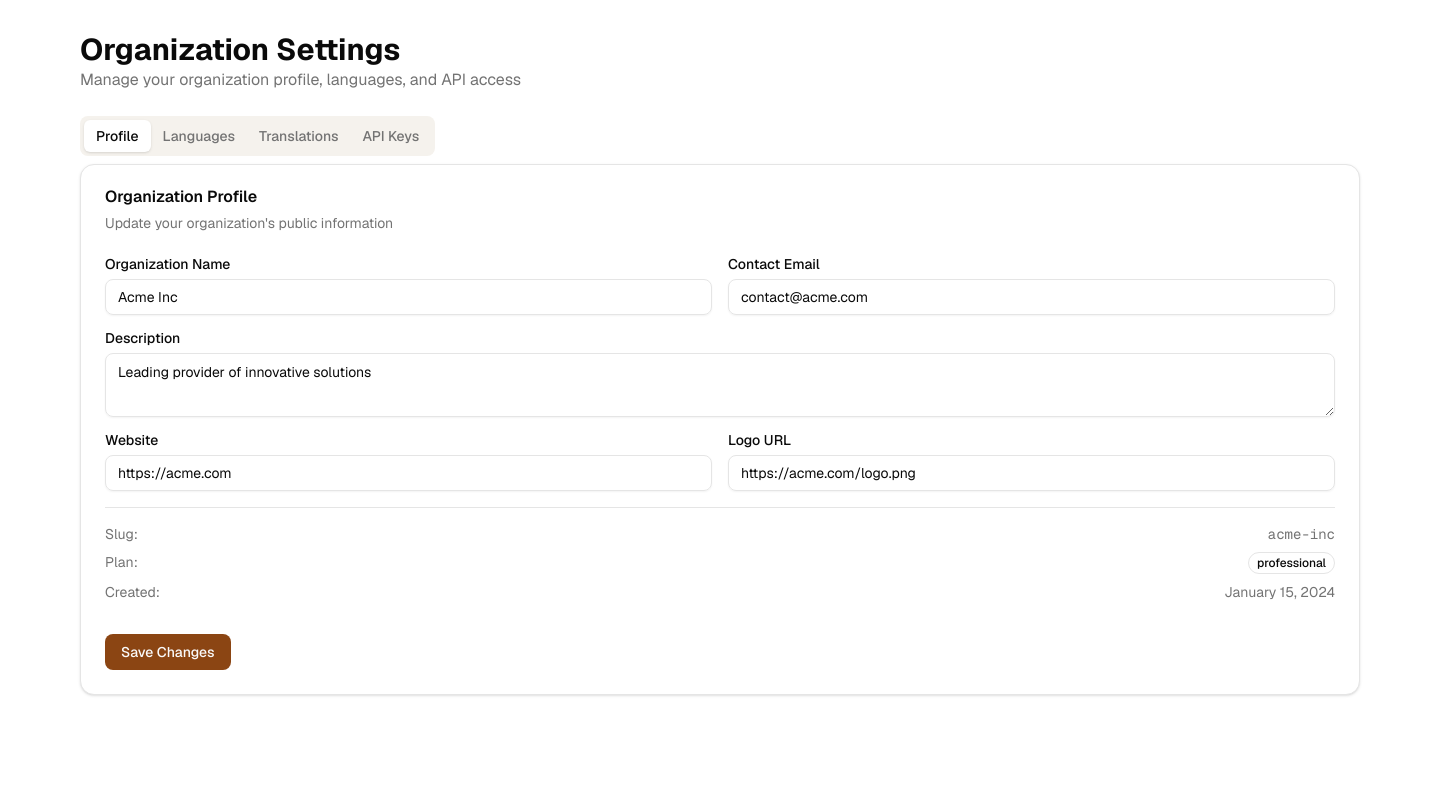
Test: OrganizationSettingsPage › Languages Tab - Locale Listing › should display empty state when no locales
This screenshot has width=1440, height=810.
Click the tab "Languages": [199, 136] box [150,120,247,152]
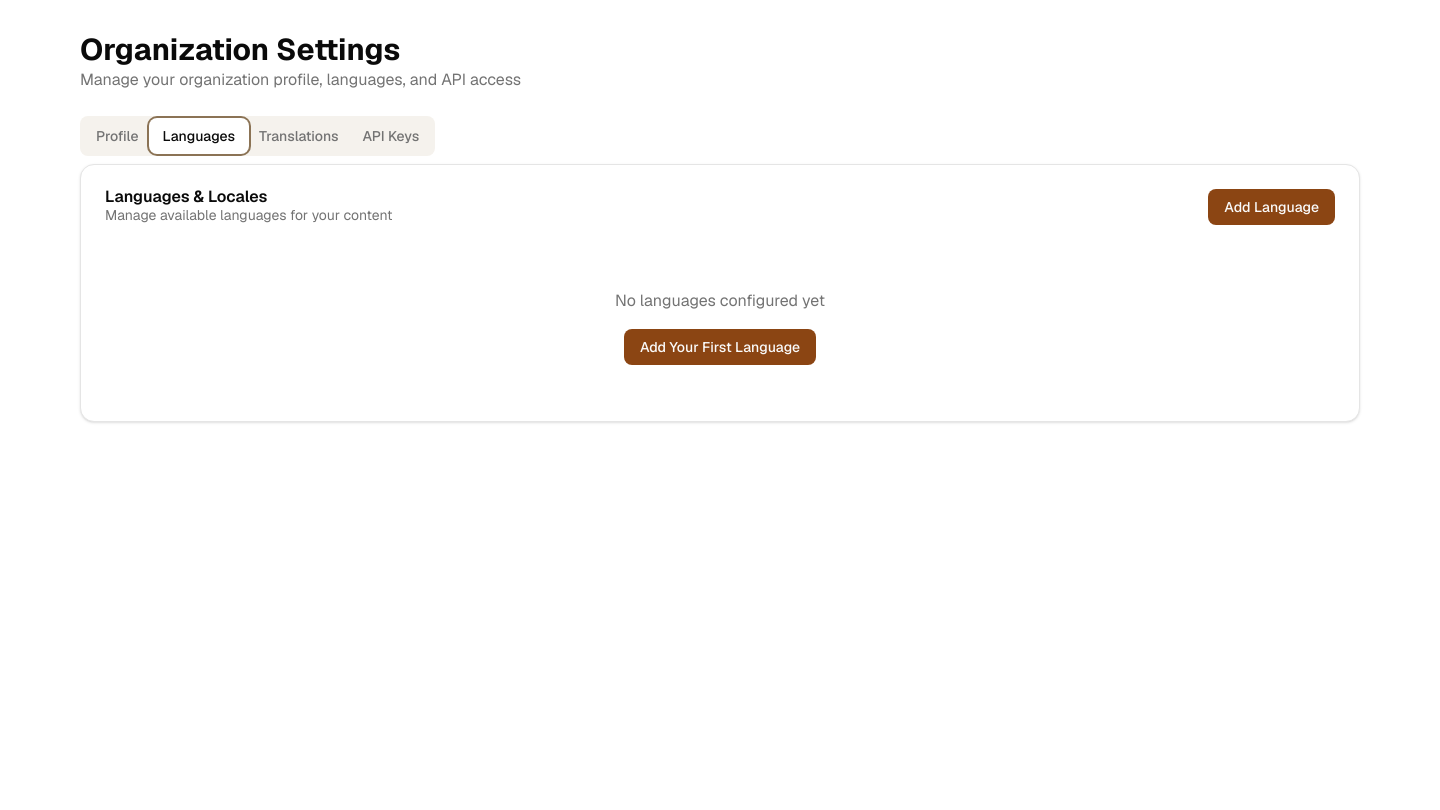
Check: the text "No languages configured yet" is shown, box [615,290,825,311]
